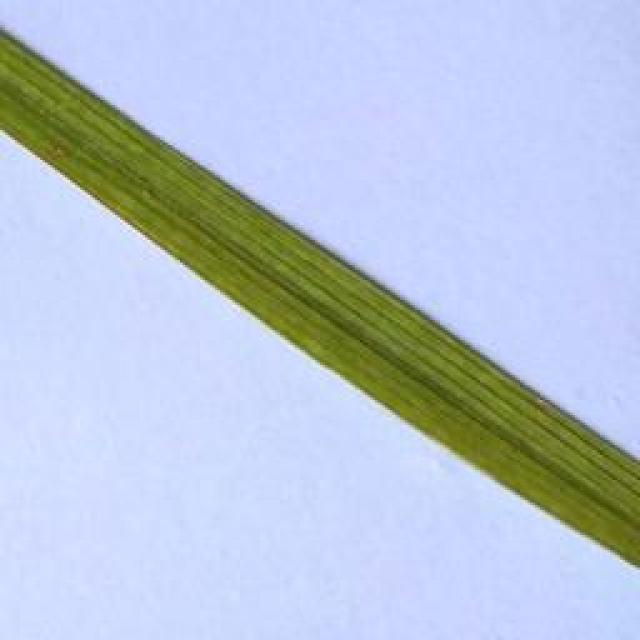Healthy-Plant: (0, 31, 640, 564)
